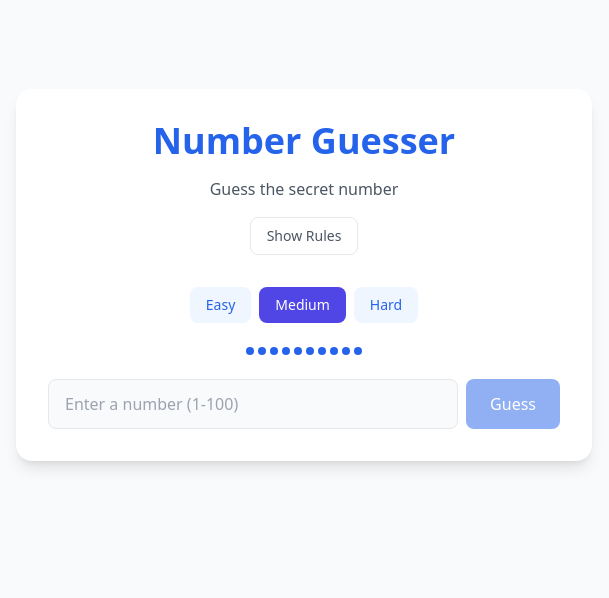
Test case: NumberGuesser › should show/hide rules when clicking the rules button
Click the button "Show Rules".
click(304, 236)  # box [250,217,358,255]
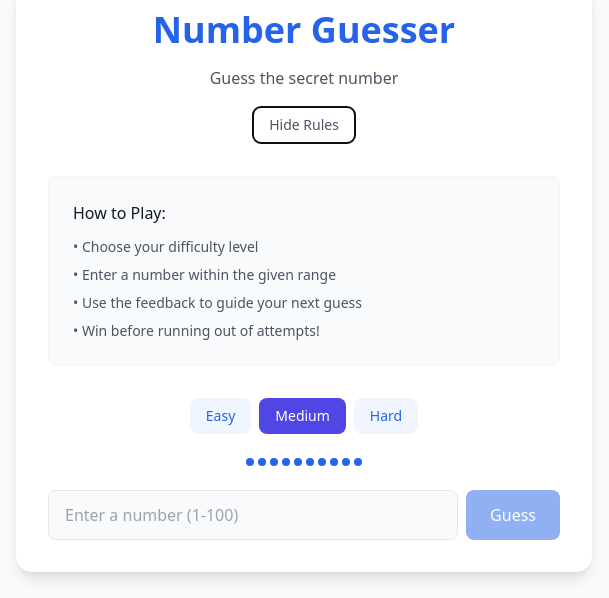
Expected: the heading "How to Play:" is shown, [73,202,166,224]
Click the button "Show Rules".
click(304, 125)  # box [252,106,356,144]
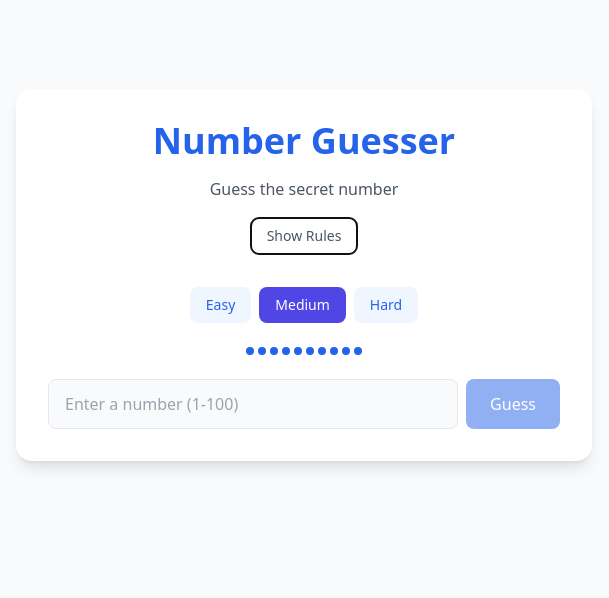
Expected: the heading "How to Play:" is gone
